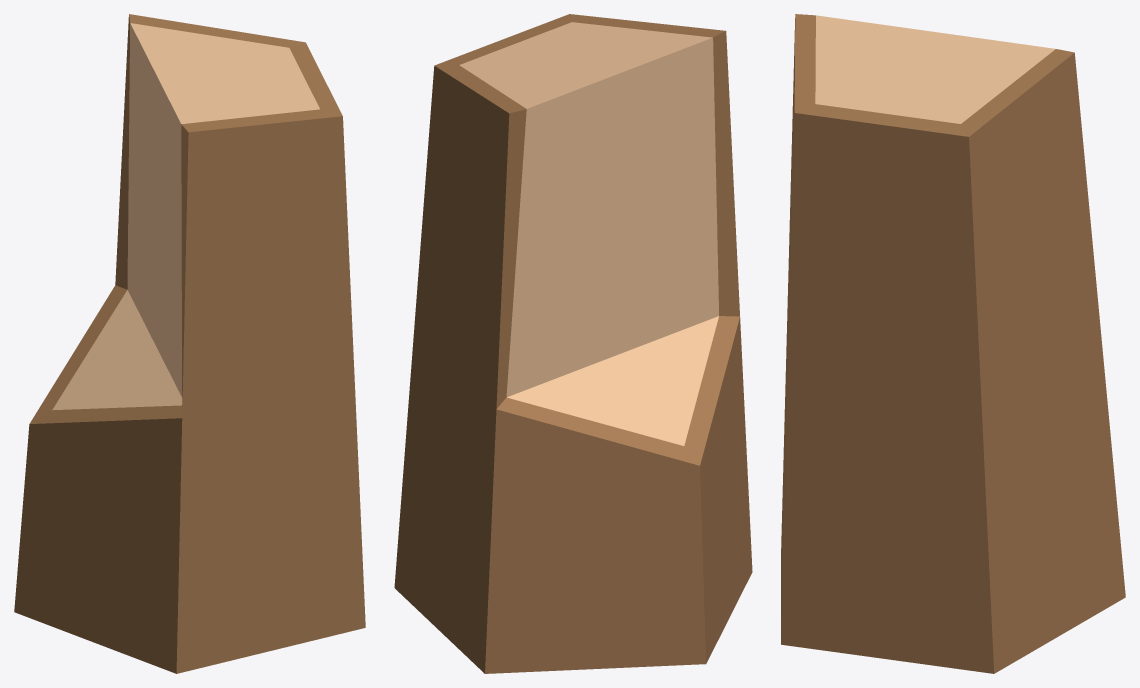
The model's file is Pine_Stump_02.fbx.
3 renders of one model, left to right at view 1: azimuth 30°, elevation 25°; view 2: azimuth 150°, elevation 25°; view 3: azimuth 270°, elevation 25°, orthographic. The views are drawn at different scales.
Parts seen in each view (by area): view 1: Pine_Stump_02; view 2: Pine_Stump_02; view 3: Pine_Stump_02.
Boxes of the visible parts, x1,y1,x2,y2 form: Pine_Stump_02: (14,14,365,673); Pine_Stump_02: (394,14,752,673); Pine_Stump_02: (781,14,1125,673).
Size of the model in its own units: 72.39 by 120 by 68.85.
